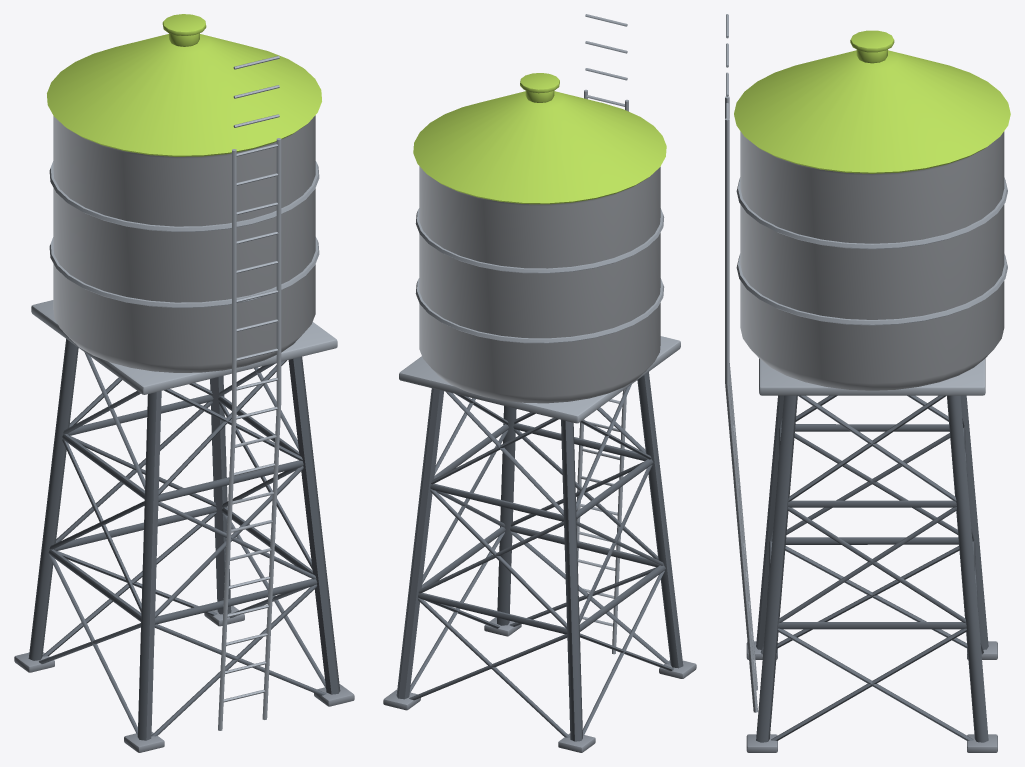
File: caixa_dagua_torre.glb
3 renders of one model, left to right at view 1: azimuth 30°, elevation 25°; view 2: azimuth 150°, elevation 25°; view 3: azimuth 270°, elevation 25°, orthographic. The views are drawn at different scales.
Parts seen in each view (by area): view 1: caixa_dagua_torre; view 2: caixa_dagua_torre; view 3: caixa_dagua_torre.
Boxes of the visible parts, <box> form: caixa_dagua_torre: <box>14,14,354,752</box>; caixa_dagua_torre: <box>383,14,696,752</box>; caixa_dagua_torre: <box>725,14,1010,752</box>.
Bounding box in the file's own units: 2.14 × 5.77 × 2.21.
1 material, 1 textured.
